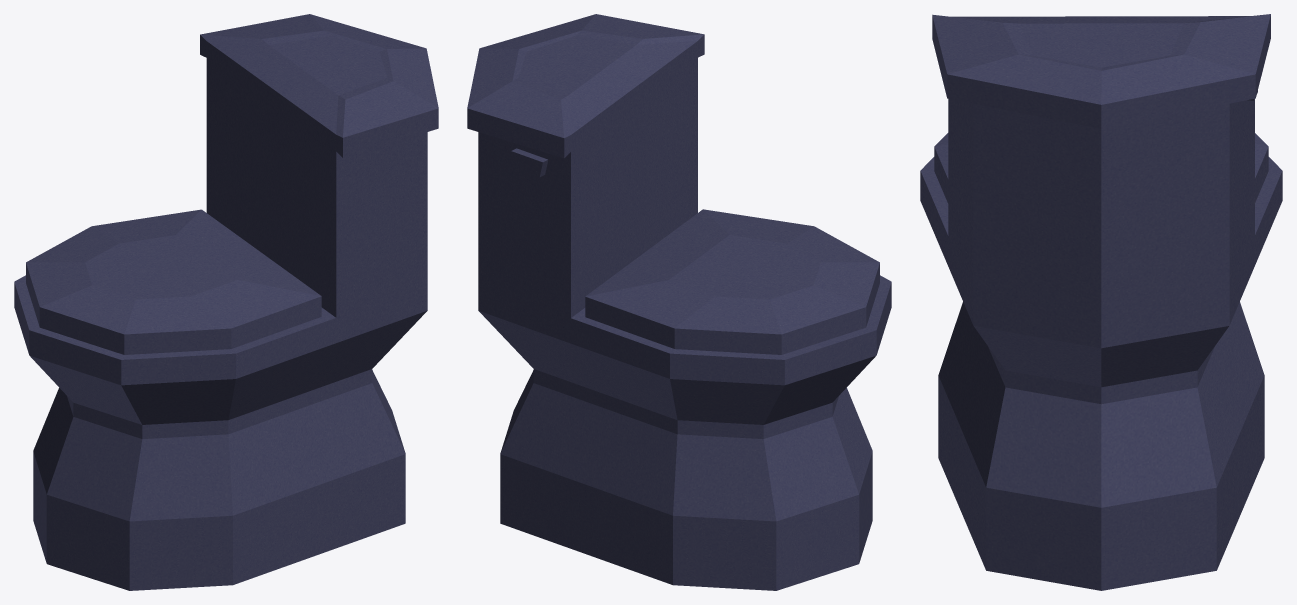
Rendered from HDToilet.fbx.
3 renders of one model, left to right at view 1: azimuth 30°, elevation 25°; view 2: azimuth 150°, elevation 25°; view 3: azimuth 270°, elevation 25°, orthographic. The views are drawn at different scales.
Parts seen in each view (by area): view 1: HDToilet; view 2: HDToilet; view 3: HDToilet.
Part boxes in pixels (left/top/right/bottom): HDToilet: left=14, top=14, right=438, bottom=590; HDToilet: left=467, top=14, right=891, bottom=590; HDToilet: left=920, top=14, right=1282, bottom=590.
Size of the model in its own units: 74.09 by 77.01 by 48.87.
